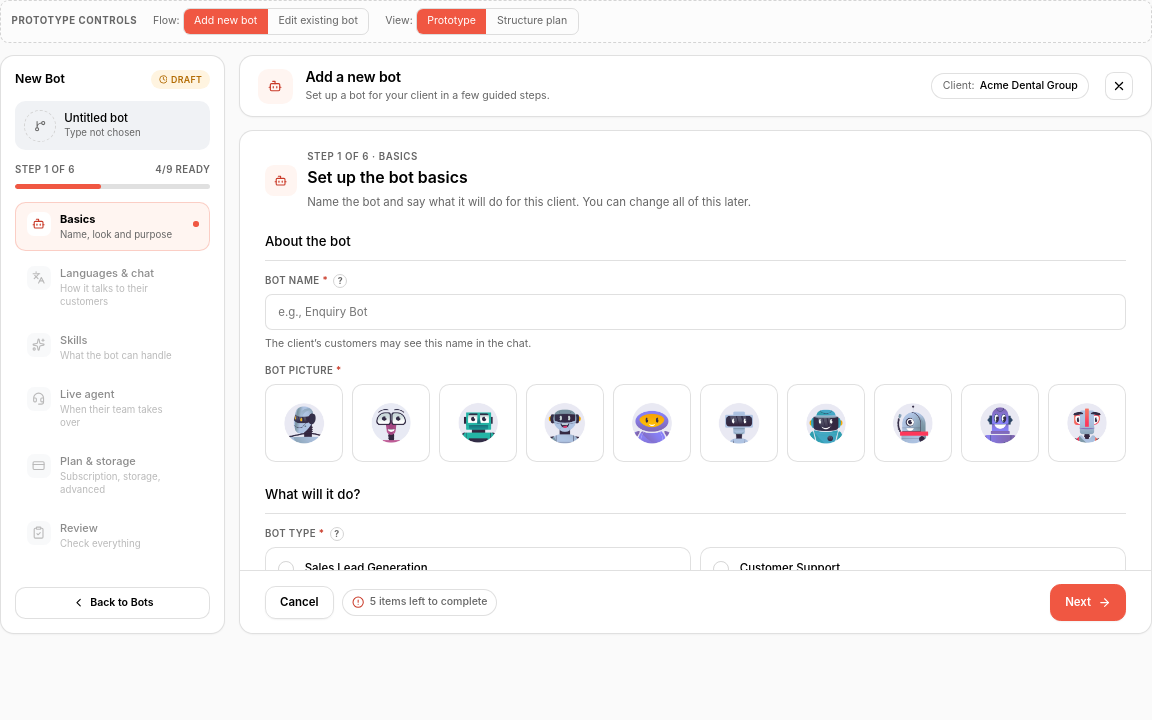
Test: bot setup wizard › shows skills for Bot routing and the agent picker for AI Agent routing
The image size is (1152, 720).
What coordinates should you click on to do the following:
click the button "Edit existing bot"
I would click on:
 (318, 21)
Its box is [268,9,368,34].
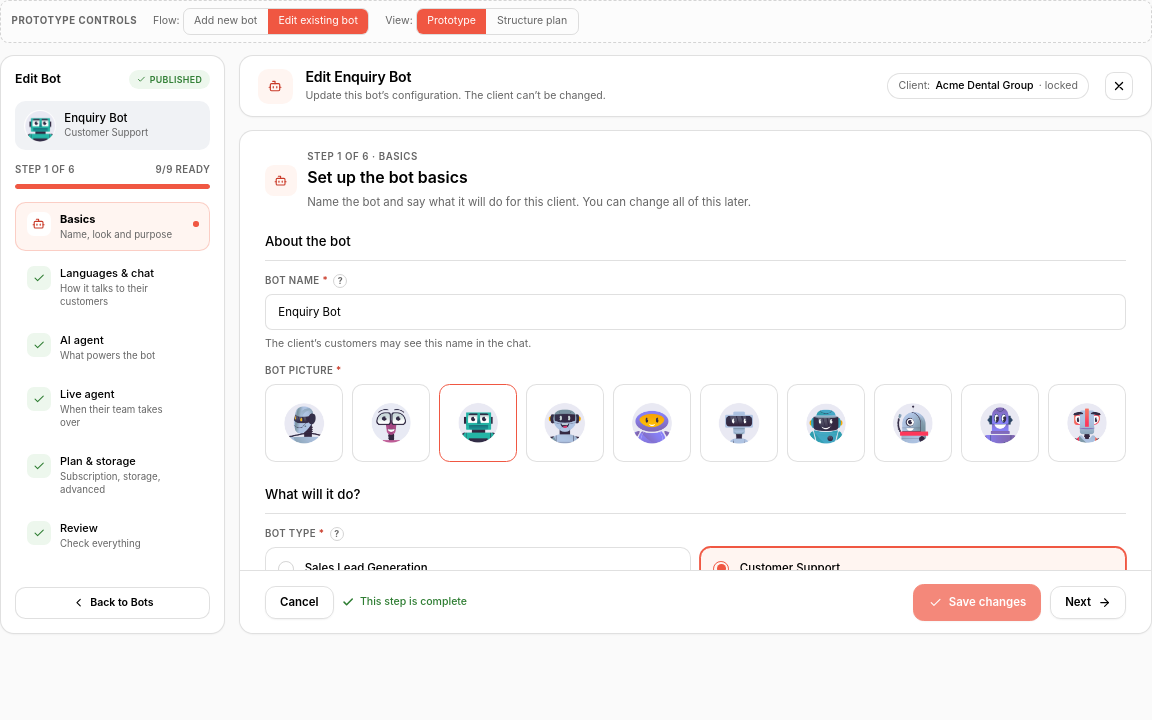
What coordinates should you click on to do the following:
click the button with class "rstep" showing "AI agent What powers the bot"
I would click on:
 (113, 347)
Its box is [15,323,210,372].
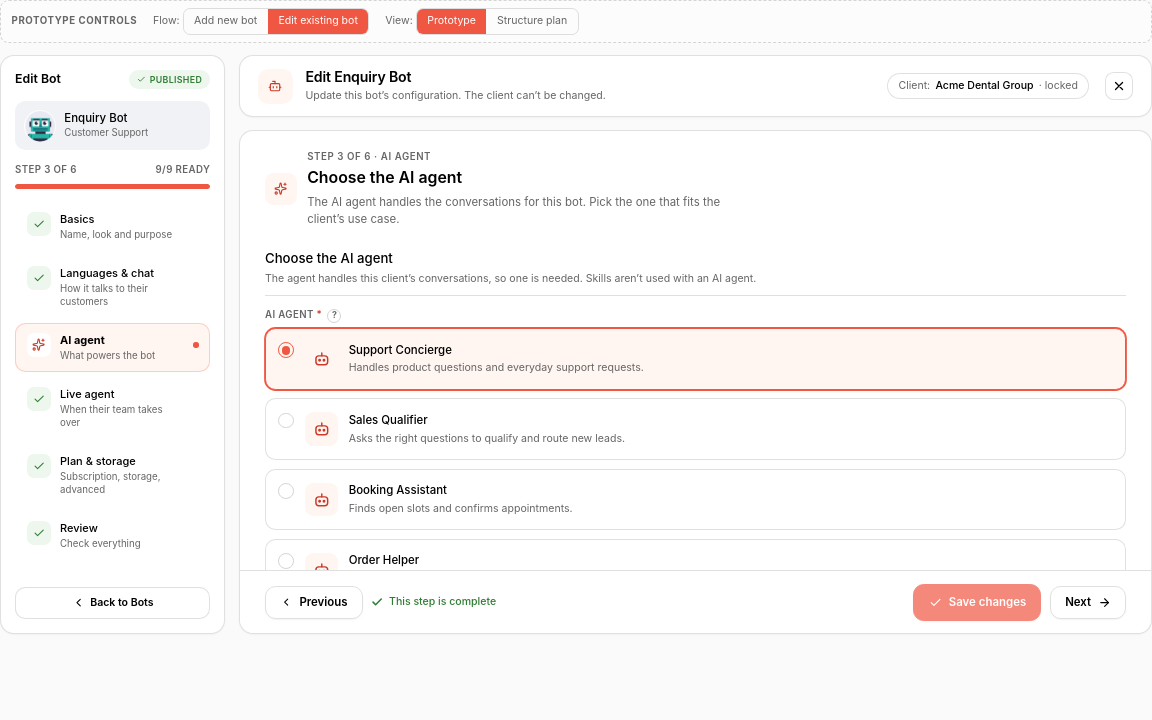
Expected: the button "+ Add skill" is not shown
Expected: the 1st heading "Choose the AI agent" is shown, [307,168,462,187]
What coordinates should you click on to do the following:
click the button with class "rstep" that starts with "Languages & chat"
I would click on:
 (113, 287)
Its box is [15,256,210,318].
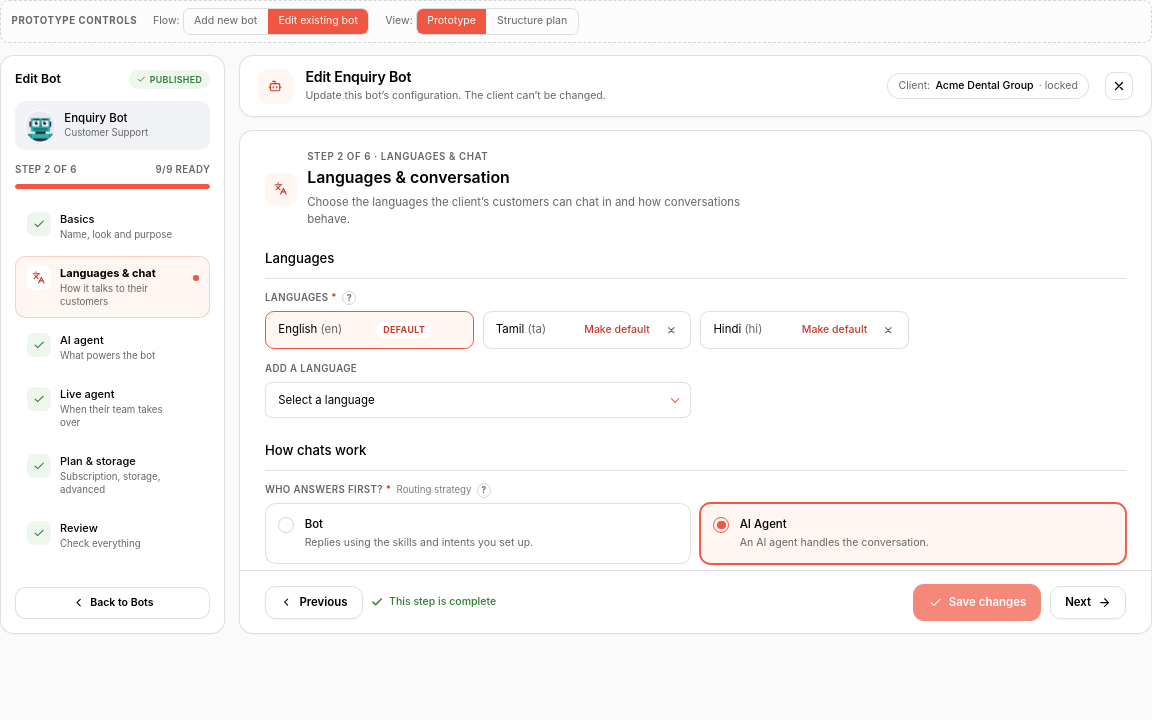
What coordinates should you click on to do the following:
click the radio button labelled "Bot Replies using the skills and intents you set up."
I would click on:
 (478, 534)
Its box is [265,503,691,564].
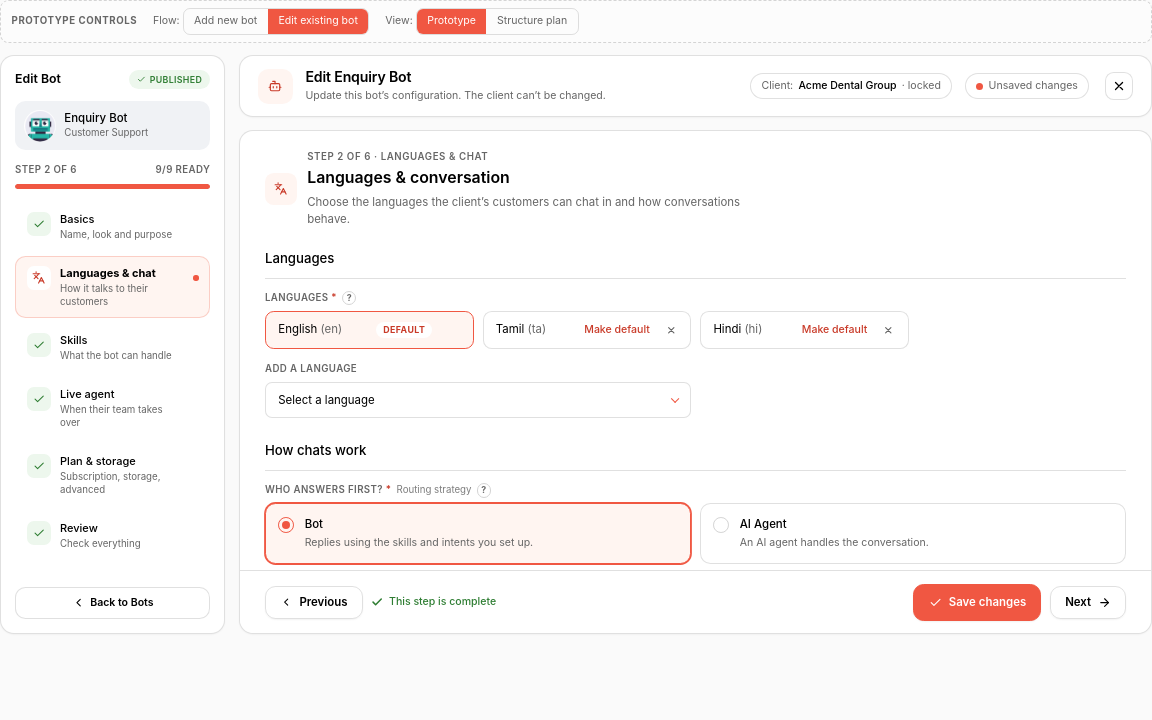
What coordinates should you click on to do the following:
click the button with class "rstep" showing "Skills What the bot can handle"
I would click on:
 (113, 347)
Its box is [15,323,210,372].
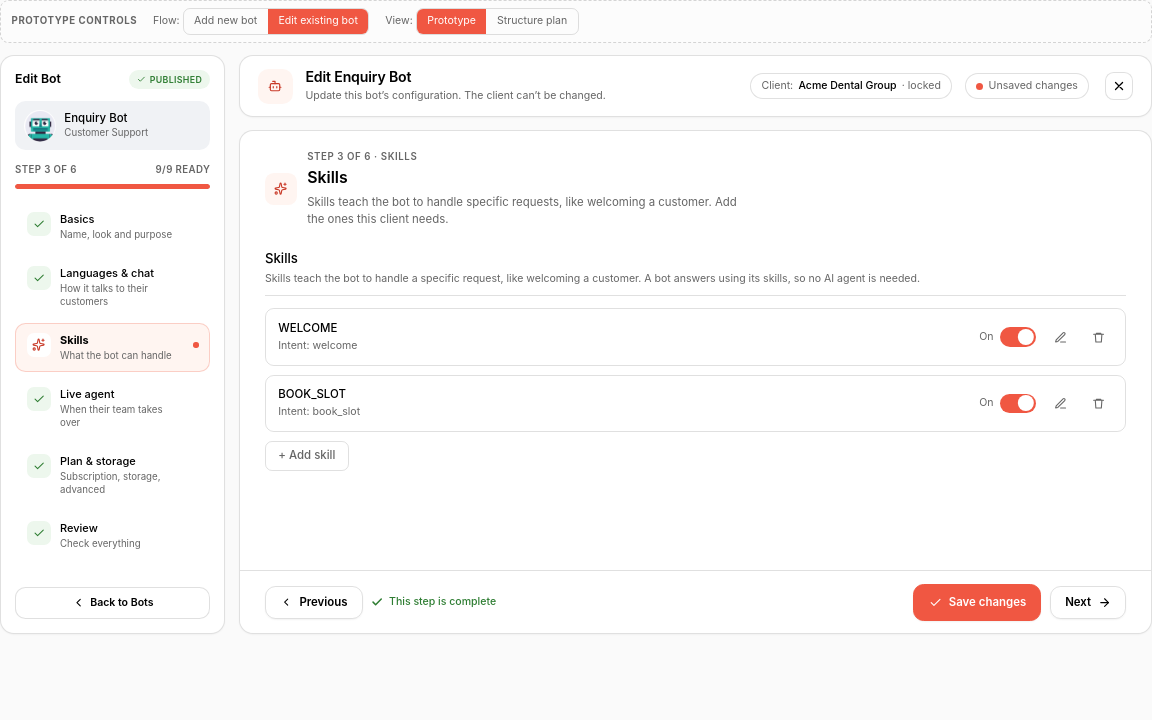
Expected: the button "+ Add skill" is shown, [265,441,349,471]
